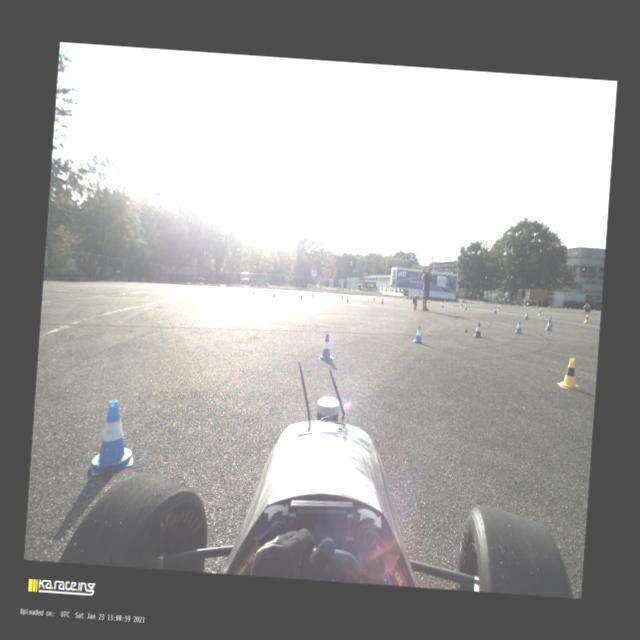blue_cone: (90, 398, 138, 479), (317, 332, 335, 362), (412, 323, 425, 344), (472, 321, 483, 338), (514, 320, 522, 334), (544, 320, 552, 330), (523, 310, 529, 320), (547, 316, 553, 326), (492, 306, 497, 314), (464, 302, 468, 310), (380, 296, 384, 304), (299, 292, 303, 300), (345, 295, 349, 302), (441, 300, 444, 308), (272, 290, 275, 297), (252, 288, 255, 294), (248, 288, 250, 293), (258, 288, 260, 292), (262, 288, 264, 292), (266, 288, 268, 292), (218, 284, 220, 288), (225, 284, 227, 288), (470, 300, 472, 303), (532, 305, 534, 307), (350, 293, 352, 295), (230, 285, 232, 287), (242, 286, 243, 290), (568, 308, 570, 310), (378, 294, 379, 297), (334, 291, 335, 294), (549, 306, 550, 308), (486, 302, 487, 304), (594, 309, 594, 311), (504, 304, 504, 306)
yellow_cone: (556, 355, 584, 391), (582, 314, 590, 324), (536, 308, 542, 316), (496, 304, 500, 312), (372, 294, 375, 302), (310, 292, 314, 298), (460, 301, 463, 308), (427, 299, 430, 305), (402, 298, 405, 304), (340, 294, 343, 300), (291, 291, 294, 296), (286, 290, 288, 295), (276, 288, 278, 292), (294, 288, 296, 292), (295, 290, 297, 294), (302, 290, 304, 294), (492, 302, 494, 306), (307, 289, 309, 292), (246, 286, 247, 290), (508, 304, 510, 306), (524, 305, 526, 307), (548, 306, 550, 308), (565, 306, 566, 310), (270, 287, 271, 290), (359, 293, 360, 296), (394, 295, 395, 298), (340, 292, 340, 295), (476, 301, 476, 304), (320, 291, 320, 293)
